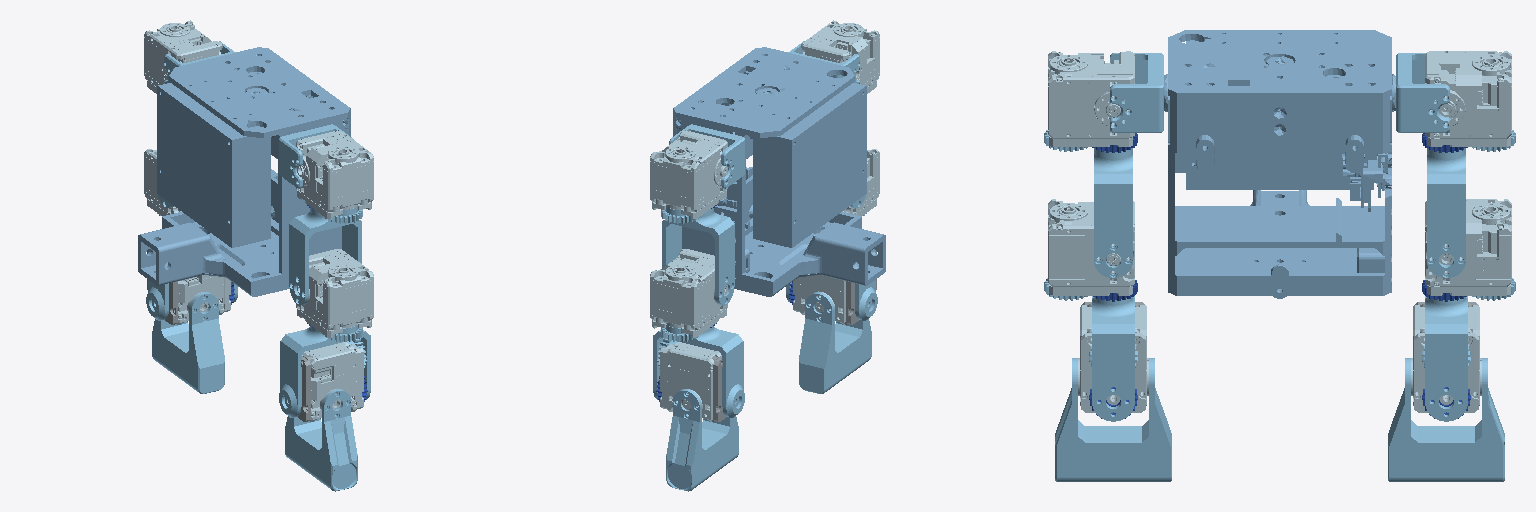
--- Facts derived from the render (not from the file) ---
Views: 3 orthographic renders of the robot side by side, from view 1: azimuth 30°, elevation 25°; view 2: azimuth 150°, elevation 25°; view 3: azimuth 270°, elevation 25°.
Model toddlerbot_arms with 29 links and 28 joints (20 revolute, 8 fixed), rooted at torso, posed all joints at 0.
Links seen in each view (by area): view 1: torso, 2xl430_gears_4, 2xl430_gears_5, hand, hand_2, 2xl430_gears_6, 2xl430_gears, sho_yaw_link_2, elb_yaw_link_2, 2xl430_gears_3, sho_pitch_link_2, 2xl430_gears_2 (+2 smaller); view 2: torso, 2xl430_gears, hand_2, 2xl430_gears_2, hand, 2xl430_gears_3, 2xl430_gears_4, sho_yaw_link, elb_yaw_link, 2xl430_gears_6, sho_pitch_link, 2xl430_gears_5 (+2 smaller); view 3: torso, hand, hand_2, 2xl430_gears, 2xl430_gears_4, 2xl430_gears_2, 2xl430_gears_5, elb_yaw_link, elb_yaw_link_2, sho_yaw_link, sho_yaw_link_2, sho_pitch_link_2 (+3 smaller).
Link boxes in pixels (left/top/right/bottom): torso: left=138, top=47, right=350, bottom=296; 2xl430_gears_4: left=296, top=130, right=373, bottom=219; 2xl430_gears_5: left=296, top=249, right=373, bottom=337; hand: left=152, top=292, right=224, bottom=393; hand_2: left=285, top=389, right=357, bottom=491; 2xl430_gears_6: left=302, top=342, right=363, bottom=421; 2xl430_gears: left=144, top=20, right=222, bottom=93; sho_yaw_link_2: left=289, top=208, right=361, bottom=305; elb_yaw_link_2: left=279, top=326, right=370, bottom=417; 2xl430_gears_3: left=177, top=275, right=230, bottom=324; sho_pitch_link_2: left=279, top=124, right=353, bottom=188; 2xl430_gears_2: left=144, top=149, right=181, bottom=215; torso: left=673, top=47, right=885, bottom=296; 2xl430_gears: left=650, top=130, right=727, bottom=219; hand_2: left=799, top=292, right=871, bottom=393; 2xl430_gears_2: left=650, top=249, right=727, bottom=337; hand: left=666, top=389, right=738, bottom=491; 2xl430_gears_3: left=660, top=342, right=721, bottom=421; 2xl430_gears_4: left=801, top=20, right=879, bottom=93; sho_yaw_link: left=662, top=208, right=734, bottom=305; elb_yaw_link: left=653, top=326, right=744, bottom=417; 2xl430_gears_6: left=793, top=275, right=846, bottom=324; sho_pitch_link: left=669, top=124, right=744, bottom=188; 2xl430_gears_5: left=842, top=149, right=879, bottom=215; torso: left=1164, top=30, right=1395, bottom=298; hand: left=1388, top=358, right=1504, bottom=481; hand_2: left=1055, top=358, right=1171, bottom=481; 2xl430_gears: left=1425, top=51, right=1511, bottom=146; 2xl430_gears_4: left=1048, top=51, right=1134, bottom=146; 2xl430_gears_2: left=1425, top=199, right=1511, bottom=295; 2xl430_gears_5: left=1048, top=199, right=1134, bottom=295; elb_yaw_link: left=1425, top=296, right=1467, bottom=421; elb_yaw_link_2: left=1092, top=296, right=1134, bottom=421; sho_yaw_link: left=1427, top=148, right=1465, bottom=277; sho_yaw_link_2: left=1094, top=148, right=1132, bottom=277; sho_pitch_link_2: left=1110, top=53, right=1163, bottom=132.
Size in the robot's own frame: 0.131 by 0.2519 by 0.2472 metres.
29 mesh visuals loaded from 29 distinct referenced files (29 binary STL).

URDF robot description (toddlerbot_arms):
<robot name="toddlerbot_arms">
  <mujoco>
    <compiler strippath="false" balanceinertia="true" discardvisual="false" />
  </mujoco>
  <link name="torso">
    <visual>
      <origin xyz="0 0 0" rpy="0 -0 0" />
      <geometry>
        <mesh filename="../assemblies/toddlerbot_arms/meshes/torso_visual.stl" />
      </geometry>
      <material name="torso_material">
        <color rgba="0.57568355636757850835 0.73346695530923944339 0.85632171014496005768 1.0" />
      </material>
    </visual>
    <inertial>
      <origin xyz="-0.009112547361055770706 0.003604904945319456315 0.074699753823106354589" rpy="0 0 0" />
      <mass value="0.60023307803583569875" />
      <inertia ixx="0.0016765069535889785303" ixy="-3.7938097719290492563e-05" ixz="-8.3104173875696863154e-05" iyy="0.0013166750851799557606" iyz="5.6366295515428055016e-05" izz="0.0012679724848085589892" />
    </inertial>
  </link>

  <joint name="left_sho_pitch" type="revolute">
    <origin xyz="-0.0030000000000002949654 0.062000000000001082023 0.10423651076281742478" rpy="-1.5707963267949081043 -4.0958527081001641839e-14 3.5234047634505718213e-14" />
    <parent link="torso" />
    <child link="sho_pitch_link" />
    <axis xyz="0 0 1" />
    <limit effort="1" velocity="20" lower="-3.141592653589793116" upper="1.570796326794896558" />
    <joint_properties friction="0.0" />
  </joint>

  <joint name="right_sho_pitch" type="revolute">
    <origin xyz="-0.0029999999999986998872 -0.06200000000000097794 0.10423651076281731376" rpy="-1.5707963267948885644 3.4812325502379109658e-14 -3.1415926535897562566" />
    <parent link="torso" />
    <child link="sho_pitch_link_2" />
    <axis xyz="0 0 1" />
    <limit effort="1" velocity="20" lower="-1.570796326794896558" upper="3.141592653589793116" />
    <joint_properties friction="0.0" />
  </joint>


  <link name="sho_pitch_link">
    <visual>
      <origin xyz="0 0 0" rpy="0 -0 0" />
      <geometry>
        <mesh filename="../assemblies/left_arm_hand/meshes/left_sho_pitch_link_visual.stl" />
      </geometry>
      <material name="sho_pitch_link_material">
        <color rgba="0.61568627450980395466 0.81176470588235294379 0.92941176470588238168 1.0" />
      </material>
    </visual>
    <inertial>
      <origin xyz="5.8254247652798875819e-11 -5.1264642561121521395e-05 0.0082440788127094901533" rpy="0 0 0" />
      <mass value="0.0086000000000000000056" />
      <inertia ixx="1.2272887040545791873e-06" ixy="-2.1429944210231087856e-14" ixz="-8.584719860658140756e-15" iyy="2.9107306060364611617e-06" iyz="7.4623841398183299076e-09" izz="3.0803135950773487693e-06" />
    </inertial>
  </link>

  <link name="2xl430_gears">
    <visual>
      <origin xyz="0 0 0" rpy="0 -0 0" />
      <geometry>
        <mesh filename="../assemblies/left_arm_hand/meshes/left_2xl430_gears_visual.stl" />
      </geometry>
      <material name="2xl430_gears_material">
        <color rgba="0.7560598568794409946 0.85804695962693022793 0.91320266199377464478 1.0" />
      </material>
    </visual>
    <inertial>
      <origin xyz="-0.011579403981036554341 -0.0024225766141400158216 -0.018551095523803531884" rpy="0 0 0" />
      <mass value="0.11800003674524907338" />
      <inertia ixx="2.7482298083236092012e-05" ixy="9.2729623432982117887e-07" ixz="-2.2634512003762348769e-08" iyy="3.2770742486672784378e-05" iyz="-6.5708346020130146558e-07" izz="3.5767957544054292845e-05" />
    </inertial>
  </link>

  <link name="spur_1m_24t_drive">
    <visual>
      <origin xyz="0 0 0" rpy="0 -0 0" />
      <geometry>
        <mesh filename="../assemblies/left_arm_hand/meshes/left_spur_1m_24t_drive_visual.stl" />
      </geometry>
      <material name="spur_1m_24t_drive_material">
        <color rgba="0.61568627450980406568 0.81176470588235294379 0.92941176470588238168 1.0" />
      </material>
    </visual>
    <inertial>
      <origin xyz="-7.7588747702773419228e-15 -1.2113919729783031184e-16 0.0047949116178401460231" rpy="0 0 0" />
      <mass value="0.0032000000000000001533" />
      <inertia ixx="1.4019331346159887702e-07" ixy="1.6002410021513630837e-15" ixz="-8.0106568502533340392e-38" iyy="1.4019331260388786185e-07" iyz="3.5707617447061325799e-38" izz="2.3838919844264060647e-07" />
    </inertial>
  </link>

  <joint name="left_sho_yaw_drive" type="revolute">
    <origin xyz="-0.024000000716141278723 -0.019000000152448490859 -0.0190000001524472939" rpy="1.570796326794886566 -1.7772407460995643501e-15 2.9721983312145830671e-14" />
    <parent link="2xl430_gears" />
    <child link="spur_1m_24t_drive" />
    <axis xyz="0 0 1" />
    <limit effort="1" velocity="20" lower="-1.570796326794896558" upper="1.570796326794896558" />
    <joint_properties friction="0.0" />
  </joint>

  <link name="spur_1m_24t_driven">
    <visual>
      <origin xyz="0 0 0" rpy="0 -0 0" />
      <geometry>
        <mesh filename="../assemblies/left_arm_hand/meshes/left_spur_1m_24t_driven_visual.stl" />
      </geometry>
      <material name="spur_1m_24t_driven_material">
        <color rgba="0.23137254901960788156 0.38039215686274507888 0.7058823529411765163 1.0" />
      </material>
    </visual>
    <inertial>
      <origin xyz="2.3289816703110464291e-18 -5.7987576959439556938e-15 -0.00096866348640038332785" rpy="0 0 0" />
      <mass value="0.0027000000000000001429" />
      <inertia ixx="1.2026541119643502094e-07" ixy="-4.0474500803410873683e-47" ixz="-1.0726060653955529023e-38" iyy="1.2026541119643483565e-07" iyz="5.980474480612833222e-38" izz="2.2827257365099366486e-07" />
    </inertial>
  </link>

  <link name="sho_yaw_link">
    <visual>
      <origin xyz="0 0 0" rpy="0 -0 0" />
      <geometry>
        <mesh filename="../assemblies/left_arm_hand/meshes/left_sho_yaw_link_visual.stl" />
      </geometry>
      <material name="sho_yaw_link_material">
        <color rgba="0.61568627450980395466 0.81176470588235294379 0.92941176470588238168 1.0" />
      </material>
    </visual>
    <inertial>
      <origin xyz="-1.1573942515719324801e-18 3.9965734479645065973e-18 -0.024214576156328410095" rpy="0 0 0" />
      <mass value="0.014500000000000019817" />
      <inertia ixx="9.0490855102915009419e-06" ixy="3.5997729401550392327e-13" ixz="8.4928747802388991438e-37" iyy="5.6767199180624735964e-06" iyz="1.6087043138114355428e-36" izz="4.4590603637468159332e-06" />
    </inertial>
  </link>

  <link name="2xl430_gears_2">
    <visual>
      <origin xyz="0 0 0" rpy="0 -0 0" />
      <geometry>
        <mesh filename="../assemblies/left_arm_hand/meshes/left_2xl430_gears_2_visual.stl" />
      </geometry>
      <material name="2xl430_gears_2_material">
        <color rgba="0.7560598568794409946 0.85804695962693022793 0.91320266199377464478 1.0" />
      </material>
    </visual>
    <inertial>
      <origin xyz="-0.01157940398103590382 -0.0024225766141403085562 -0.018551095523804767007" rpy="0 0 0" />
      <mass value="0.11800003674524907338" />
      <inertia ixx="2.7482298083236647666e-05" ixy="9.2729623433076170308e-07" ixz="-2.263451200393656955e-08" iyy="3.2770742486673184177e-05" iyz="-6.5708346020168125398e-07" izz="3.5767957544054909485e-05" />
    </inertial>
  </link>

  <link name="spur_1m_24t_drive_2">
    <visual>
      <origin xyz="0 0 0" rpy="0 -0 0" />
      <geometry>
        <mesh filename="../assemblies/left_arm_hand/meshes/left_spur_1m_24t_drive_2_visual.stl" />
      </geometry>
      <material name="spur_1m_24t_drive_2_material">
        <color rgba="0.61568627450980406568 0.81176470588235294379 0.92941176470588238168 1.0" />
      </material>
    </visual>
    <inertial>
      <origin xyz="-7.7519358763734346945e-15 -1.2113919729783050906e-16 0.0047949116178401382168" rpy="0 0 0" />
      <mass value="0.0032000000000000001533" />
      <inertia ixx="1.4019331346159887702e-07" ixy="1.6002410054600855339e-15" ixz="2.601989679508350391e-37" iyy="1.4019331260388786185e-07" iyz="-1.1857416576551867588e-36" izz="2.3838919844264060647e-07" />
    </inertial>
  </link>

  <joint name="left_elbow_yaw_drive" type="revolute">
    <origin xyz="-0.024000000716141011575 -0.019000000152448556778 -0.019000000152448452695" rpy="1.5707963267949249797 5.3833632274240703492e-15 -6.2781152873576405876e-14" />
    <parent link="2xl430_gears_2" />
    <child link="spur_1m_24t_drive_2" />
    <axis xyz="0 0 1" />
    <limit effort="1" velocity="20" lower="-1.570796326794896558" upper="1.570796326794896558" />
    <joint_properties friction="0.0" />
  </joint>

  <link name="spur_1m_24t_driven_2">
    <visual>
      <origin xyz="0 0 0" rpy="0 -0 0" />
      <geometry>
        <mesh filename="../assemblies/left_arm_hand/meshes/left_spur_1m_24t_driven_2_visual.stl" />
      </geometry>
      <material name="spur_1m_24t_driven_2_material">
        <color rgba="0.23137254901960788156 0.38039215686274507888 0.7058823529411765163 1.0" />
      </material>
    </visual>
    <inertial>
      <origin xyz="2.3289816703110237031e-18 -5.7989934404527921162e-15 -0.00096866348640039037516" rpy="0 0 0" />
      <mass value="0.0027000000000000001429" />
      <inertia ixx="1.2026541119643502094e-07" ixy="0" ixz="-3.9131793608196566436e-37" iyy="1.2026541119643483565e-07" iyz="0" izz="2.2827257365099366486e-07" />
    </inertial>
  </link>

  <link name="elb_yaw_link">
    <visual>
      <origin xyz="0 0 0" rpy="0 -0 0" />
      <geometry>
        <mesh filename="../assemblies/left_arm_hand/meshes/left_elb_yaw_link_visual.stl" />
      </geometry>
      <material name="elb_yaw_link_material">
        <color rgba="0.61568627450980395466 0.81176470588235294379 0.92941176470588227065 1.0" />
      </material>
    </visual>
    <inertial>
      <origin xyz="5.2870889172778520186e-08 0.0019873558182742466494 -0.02336566119982871545" rpy="0 0 0" />
      <mass value="0.017500000000000001665" />
      <inertia ixx="1.4097804991252558057e-05" ixy="1.690080968406779376e-12" ixz="-1.118467366217378058e-11" iyy="6.6367696417680302023e-06" iyz="1.0579908722588331512e-06" izz="8.9601142768980663591e-06" />
    </inertial>
  </link>

  <link name="spur_1m_24t_driven_3">
    <visual>
      <origin xyz="0 0 0" rpy="0 -0 0" />
      <geometry>
        <mesh filename="../assemblies/left_arm_hand/meshes/left_spur_1m_24t_driven_3_visual.stl" />
      </geometry>
      <material name="spur_1m_24t_driven_3_material">
        <color rgba="0.23137254901960788156 0.38039215686274507888 0.7058823529411765163 1.0" />
      </material>
    </visual>
    <inertial>
      <origin xyz="-2.5426593945317773481e-17 -5.8024628874047457304e-15 -0.0025686634864003805856" rpy="0 0 0" />
      <mass value="0.0027000000000000001429" />
      <inertia ixx="1.2026541119643502094e-07" ixy="7.589814491455755124e-37" ixz="1.0368687130951098114e-36" iyy="1.2026541119643483565e-07" iyz="7.7514145192038011191e-67" izz="2.2827257365099366486e-07" />
    </inertial>
  </link>

  <link name="2xl430_gears_3">
    <visual>
      <origin xyz="0 0 0" rpy="0 -0 0" />
      <geometry>
        <mesh filename="../assemblies/left_arm_hand/meshes/left_2xl430_gears_3_visual.stl" />
      </geometry>
      <material name="2xl430_gears_3_material">
        <color rgba="0.7560598568794409946 0.85804695962693022793 0.91320266199377464478 1.0" />
      </material>
    </visual>
    <inertial>
      <origin xyz="0.00044890447620182772313 0.011579403622954374115 -0.024577423538310189111" rpy="0 0 0" />
      <mass value="0.11800003674524907338" />
      <inertia ixx="3.5767957544054136991e-05" ixy="2.2634512003809435198e-08" ixz="6.5708346020219646177e-07" iyy="2.7482298083236969538e-05" iyz="9.2729623433153832641e-07" izz="3.277074248667180182e-05" />
    </inertial>
  </link>

  <link name="spur_1m_24t_drive_3">
    <visual>
      <origin xyz="0 0 0" rpy="0 -0 0" />
      <geometry>
        <mesh filename="../assemblies/left_arm_hand/meshes/left_spur_1m_24t_drive_3_visual.stl" />
      </geometry>
      <material name="spur_1m_24t_drive_3_material">
        <color rgba="0.61568627450980406568 0.81176470588235294379 0.92941176470588238168 1.0" />
      </material>
    </visual>
    <inertial>
      <origin xyz="-7.779691451989063608e-15 -1.2139113751310926949e-16 0.0047949116178401460231" rpy="0 0 0" />
      <mass value="0.0032000000000000001533" />
      <inertia ixx="1.4019331346159887702e-07" ixy="1.6002410021513630837e-15" ixz="1.353024793676005615e-36" iyy="1.4019331260388786185e-07" iyz="-6.353552390351152457e-37" izz="2.3838919844264060647e-07" />
    </inertial>
  </link>

  <joint name="left_wrist_roll_drive" type="revolute">
    <origin xyz="-1.5244091752797395145e-10 0.024000000358059436767 -0.0080000000000068592632" rpy="1.9871762375367660116e-15 -2.337019466836035928e-14 -1.5707963267949176522" />
    <parent link="2xl430_gears_3" />
    <child link="spur_1m_24t_drive_3" />
    <axis xyz="0 0 1" />
    <limit effort="1" velocity="20" lower="-1.570796326794896558" upper="1.570796326794896558" />
    <joint_properties friction="0.0" />
  </joint>

  <link name="hand">
    <visual>
      <origin xyz="0 0 0" rpy="0 -0 0" />
      <geometry>
        <mesh filename="../assemblies/left_arm_hand/meshes/left_hand_visual.stl" />
      </geometry>
      <material name="hand_material">
        <color rgba="0.61568627450980395466 0.81176470588235294379 0.92941176470588238168 1.0" />
      </material>
    </visual>
    <inertial>
      <origin xyz="-4.3038382212365917433e-08 -0.049723778585231935556 -0.017933572005390339271" rpy="0 0 0" />
      <mass value="0.017000000000001441042" />
      <inertia ixx="9.492141461772624154e-06" ixy="-1.5549215897336582142e-11" ixz="-1.0809694196523374989e-11" iyy="4.0745028295199771232e-06" iyz="2.4719408559837110004e-07" izz="6.6623859523002763733e-06" />
    </inertial>
  </link>

  <joint name="left_wrist_pitch" type="revolute">
    <origin xyz="0.019000000000005953099 -3.5808089826616651408e-10 -0.027000000152448959401" rpy="3.3651291228739927188e-14 1.5707963267946487562 0" />
    <parent link="2xl430_gears_3" />
    <child link="hand" />
    <axis xyz="0 0 1" />
    <limit effort="1" velocity="20" lower="-1.570796326794896558" upper="1.570796326794896558" />
    <joint_properties friction="0.0" />
  </joint>

  <link name="wrist_bearing_plate">
    <visual>
      <origin xyz="0 0 0" rpy="0 -0 0" />
      <geometry>
        <mesh filename="../assemblies/left_arm_hand/meshes/left_wrist_bearing_plate_visual.stl" />
      </geometry>
      <material name="wrist_bearing_plate_material">
        <color rgba="0.64496316278892629192 0.69011804996940528945 0.71706771073555886087 1.0" />
      </material>
    </visual>
    <inertial>
      <origin xyz="-0.0075896393545961393645 -0.015499999999999982542 -0.001838611004571836377" rpy="0 0 0" />
      <mass value="0.0049000367468305539714" />
      <inertia ixx="4.9747313520140109893e-07" ixy="3.1440518711942401996e-23" ixz="1.8097509420524730079e-08" iyy="7.1295025627582343196e-07" iyz="7.639371504633119733e-24" izz="1.192629795229190602e-06" />
    </inertial>
  </link>

  <joint name="left_wrist_pitch_fixed" type="fixed">
    <origin xyz="0.015500000000005269979 -1.7125190154843039636e-14 -0.04500000000000015099" rpy="-4.057865155005087888e-14 -2.9093394360302217044e-13 -1.5707963267949061059" />
    <parent link="2xl430_gears_3" />
    <child link="wrist_bearing_plate" />
    <axis xyz="0 0 1" />
    <limit effort="1" velocity="20" />
    <joint_properties friction="0.0" />
  </joint>

  <joint name="left_wrist_roll_driven" type="revolute">
    <origin xyz="-2.7755575615628913511e-17 0 -0.0015999999999999937883" rpy="2.1632341616309662631e-16 -1.4384639448392080473e-27 -1.57079632679489678" />
    <parent link="spur_1m_24t_driven_3" />
    <child link="2xl430_gears_3" />
    <axis xyz="0 0 1" />
    <limit effort="1" velocity="20" lower="-1.570796326794896558" upper="1.570796326794896558" />
    <joint_properties friction="0.0" />
  </joint>

  <joint name="left_wrist_roll_fixed" type="fixed">
    <origin xyz="-3.4694469519536141888e-18 -0.025300000000000003042 -0.051999999999999976796" rpy="1.570796326794896558 -1.570796326794896558 0" />
    <parent link="elb_yaw_link" />
    <child link="spur_1m_24t_driven_3" />
    <axis xyz="0 0 1" />
    <limit effort="1" velocity="20" />
    <joint_properties friction="0.0" />
  </joint>

  <joint name="left_elbow_yaw_fixed" type="fixed">
    <origin xyz="7.8886090522101180541e-31 3.4694469519536141888e-18 0.0015999999999999625633" rpy="3.141592653589793116 6.123233994422830684e-17 -1.57079632679489678" />
    <parent link="spur_1m_24t_driven_2" />
    <child link="elb_yaw_link" />
    <axis xyz="0 0 1" />
    <limit effort="1" velocity="20" />
    <joint_properties friction="0.0" />
  </joint>

  <joint name="left_elbow_yaw_driven" type="revolute">
    <origin xyz="-3.5806929990500613314e-10 -0.027000000152451131274 -0.019000000000003351014" rpy="1.5707963267949591746 1.5707963267948683583 0" />
    <parent link="2xl430_gears_2" />
    <child link="spur_1m_24t_driven_2" />
    <axis xyz="0 0 1" />
    <limit effort="1" velocity="20" lower="-1.570796326794896558" upper="1.570796326794896558" />
    <joint_properties friction="0.0" />
  </joint>

  <joint name="left_elbow_roll" type="revolute">
    <origin xyz="2.185751579730776939e-16 -0.018999999999999329925 -0.058999999999999733213" rpy="1.570796326794896558 -1.3443939455351824662e-14 1.2212453270787430779e-15" />
    <parent link="sho_yaw_link" />
    <child link="2xl430_gears_2" />
    <axis xyz="0 0 1" />
    <limit effort="1" velocity="20" lower="-1.570796326794896558" upper="1.570796326794896558" />
    <joint_properties friction="0.0" />
  </joint>

  <joint name="left_sho_yaw_fixed" type="fixed">
    <origin xyz="1.7347234759768070944e-17 -1.6375789611241112762e-17 0.0015999999999999972577" rpy="-3.1415926535897926719 2.775557561593911827e-16 4.4408920984097454411e-16" />
    <parent link="spur_1m_24t_driven" />
    <child link="sho_yaw_link" />
    <axis xyz="0 0 1" />
    <limit effort="1" velocity="20" />
    <joint_properties friction="0.0" />
  </joint>

  <joint name="left_sho_yaw_driven" type="revolute">
    <origin xyz="-3.5807098258677783065e-10 -0.027000000152450111257 -0.019000000000003021416" rpy="1.5707963267949009989 2.5840015203544507292e-14 -4.9507333169721578628e-15" />
    <parent link="2xl430_gears" />
    <child link="spur_1m_24t_driven" />
    <axis xyz="0 0 1" />
    <limit effort="1" velocity="20" lower="-1.570796326794896558" upper="1.570796326794896558" />
    <joint_properties friction="0.0" />
  </joint>

  <joint name="left_sho_roll" type="revolute">
    <origin xyz="-0.018999999999999947486 0.0010000000000000076102 0.027000000000000003164" rpy="-3.141592653589793116 1.570796326794896558 0" />
    <parent link="sho_pitch_link" />
    <child link="2xl430_gears" />
    <axis xyz="0 0 1" />
    <limit effort="1" velocity="20" lower="-1.570796326794896558" upper="0" />
    <joint_properties friction="0.0" />
  </joint>


  <link name="sho_pitch_link_2">
    <visual>
      <origin xyz="0 0 0" rpy="0 -0 0" />
      <geometry>
        <mesh filename="../assemblies/right_arm_hand/meshes/right_sho_pitch_link_visual.stl" />
      </geometry>
      <material name="sho_pitch_link_material">
        <color rgba="0.61568627450980395466 0.81176470588235294379 0.92941176470588238168 1.0" />
      </material>
    </visual>
    <inertial>
      <origin xyz="5.8254247652798875819e-11 -5.1264642561121521395e-05 0.0082440788127094901533" rpy="0 0 0" />
      <mass value="0.0086000000000000000056" />
      <inertia ixx="1.2272887040545791873e-06" ixy="-2.1429944210231087856e-14" ixz="-8.584719860658140756e-15" iyy="2.9107306060364611617e-06" iyz="7.4623841398183299076e-09" izz="3.0803135950773487693e-06" />
    </inertial>
  </link>

  <link name="2xl430_gears_4">
    <visual>
      <origin xyz="0 0 0" rpy="0 -0 0" />
      <geometry>
        <mesh filename="../assemblies/right_arm_hand/meshes/right_2xl430_gears_visual.stl" />
      </geometry>
      <material name="2xl430_gears_material">
        <color rgba="0.7560598568794409946 0.85804695962693022793 0.91320266199377464478 1.0" />
      </material>
    </visual>
    <inertial>
      <origin xyz="-0.011579403981034819618 -0.002422576614140262586 -0.018551095523804385368" rpy="0 0 0" />
      <mass value="0.11800003674524907338" />
      <inertia ixx="2.7482298083236305464e-05" ixy="9.2729623432947590706e-07" ixz="-2.2634512004125047616e-08" iyy="3.2770742486672947008e-05" iyz="-6.5708346020133704096e-07" izz="3.5767957544054523238e-05" />
    </inertial>
  </link>

  <link name="spur_1m_24t_drive_4">
    <visual>
      <origin xyz="0 0 0" rpy="0 -0 0" />
      <geometry>
        <mesh filename="../assemblies/right_arm_hand/meshes/right_spur_1m_24t_drive_visual.stl" />
      </geometry>
      <material name="spur_1m_24t_drive_material">
        <color rgba="0.61568627450980406568 0.81176470588235294379 0.92941176470588238168 1.0" />
      </material>
    </visual>
    <inertial>
      <origin xyz="-7.7449969824695274661e-15 -1.2113919729783050906e-16 0.0047949116178401442884" rpy="0 0 0" />
      <mass value="0.0032000000000000001533" />
      <inertia ixx="1.4019331346159882408e-07" ixy="1.6002410042112558093e-15" ixz="-3.3725439700307390285e-36" iyy="1.4019331260388791479e-07" iyz="3.7162875711380697641e-37" izz="2.3838919844264071235e-07" />
    </inertial>
  </link>

  <joint name="right_sho_yaw_drive" type="revolute">
    <origin xyz="-0.024000000716138513573 -0.019000000152446919199 -0.019000000152449438018" rpy="1.5707963267949425212 -7.4825707768639476445e-14 5.2729872485629252068e-14" />
    <parent link="2xl430_gears_4" />
    <child link="spur_1m_24t_drive_4" />
    <axis xyz="0 0 1" />
    <limit effort="1" velocity="20" lower="-1.570796326794896558" upper="1.570796326794896558" />
    <joint_properties friction="0.0" />
  </joint>

  <link name="spur_1m_24t_driven_4">
    <visual>
      <origin xyz="0 0 0" rpy="0 -0 0" />
      <geometry>
        <mesh filename="../assemblies/right_arm_hand/meshes/right_spur_1m_24t_driven_visual.stl" />
      </geometry>
      <material name="spur_1m_24t_driven_material">
        <color rgba="0.23137254901960788156 0.38039215686274507888 0.7058823529411765163 1.0" />
      </material>
    </visual>
    <inertial>
      <origin xyz="2.3289816703110487402e-18 -5.7987576959439572715e-15 -0.00096866348640038332785" rpy="0 0 0" />
      <mass value="0.0027000000000000001429" />
      <inertia ixx="1.2026541119643502094e-07" ixy="-5.5663580889415808082e-37" ixz="6.6068929034903528962e-38" iyy="1.2026541119643483565e-07" iyz="-8.7912927549812511121e-37" izz="2.2827257365099366486e-07" />
    </inertial>
  </link>

  <link name="sho_yaw_link_2">
    <visual>
      <origin xyz="0 0 0" rpy="0 -0 0" />
      <geometry>
        <mesh filename="../assemblies/right_arm_hand/meshes/right_sho_yaw_link_visual.stl" />
      </geometry>
      <material name="sho_yaw_link_material">
        <color rgba="0.61568627450980395466 0.81176470588235294379 0.92941176470588238168 1.0" />
      </material>
    </visual>
    <inertial>
      <origin xyz="-1.1573942515719413393e-18 3.9965734479639950703e-18 -0.024214576156328420503" rpy="0 0 0" />
      <mass value="0.014500000000000019817" />
      <inertia ixx="9.0490855102915009419e-06" ixy="3.5997729401550392327e-13" ixz="7.6329854215857035117e-36" iyy="5.6767199180624735964e-06" iyz="-3.9168248734789212003e-35" izz="4.4590603637468159332e-06" />
    </inertial>
  </link>

  <link name="2xl430_gears_5">
    <visual>
      <origin xyz="0 0 0" rpy="0 -0 0" />
      <geometry>
        <mesh filename="../assemblies/right_arm_hand/meshes/right_2xl430_gears_2_visual.stl" />
      </geometry>
      <material name="2xl430_gears_2_material">
        <color rgba="0.7560598568794409946 0.85804695962693022793 0.91320266199377464478 1.0" />
      </material>
    </visual>
    <inertial>
      <origin xyz="-0.011579403981039061017 -0.0024225766141394624448 -0.01855109552380462129" rpy="0 0 0" />
      <mass value="0.11800003674524907338" />
      <inertia ixx="2.7482298083236664606e-05" ixy="9.272962343288520673e-07" ixz="-2.263451200331673003e-08" iyy="3.2770742486673394241e-05" iyz="-6.5708346020123031481e-07" izz="3.5767957544054679092e-05" />
    </inertial>
  </link>

  <link name="spur_1m_24t_drive_5">
    <visual>
      <origin xyz="0 0 0" rpy="0 -0 0" />
      <geometry>
        <mesh filename="../assemblies/right_arm_hand/meshes/right_spur_1m_24t_drive_2_visual.stl" />
      </geometry>
      <material name="spur_1m_24t_drive_2_material">
        <color rgba="0.61568627450980406568 0.81176470588235294379 0.92941176470588238168 1.0" />
      </material>
    </visual>
    <inertial>
      <origin xyz="-7.7519358763734346945e-15 -1.2113919727198111491e-16 0.0047949116178401382168" rpy="0 0 0" />
      <mass value="0.0032000000000000001533" />
      <inertia ixx="1.4019331346159882408e-07" ixy="1.6002410067372217571e-15" ixz="1.6629977555619572844e-37" iyy="1.4019331260388783538e-07" iyz="-5.9003905059354040123e-36" izz="2.3838919844264060647e-07" />
    </inertial>
  </link>

  <joint name="right_elbow_yaw_drive" type="revolute">
    <origin xyz="-0.024000000716145233892 -0.019000000152448695556 -0.019000000152448716373" rpy="1.5707963267950251218 -1.5597582698688193762e-15 -8.7866473173388565758e-14" />
    <parent link="2xl430_gears_5" />
    <child link="spur_1m_24t_drive_5" />
    <axis xyz="0 0 1" />
    <limit effort="1" velocity="20" lower="-1.570796326794896558" upper="1.570796326794896558" />
    <joint_properties friction="0.0" />
  </joint>

  <link name="spur_1m_24t_driven_5">
    <visual>
      <origin xyz="0 0 0" rpy="0 -0 0" />
      <geometry>
        <mesh filename="../assemblies/right_arm_hand/meshes/right_spur_1m_24t_driven_2_visual.stl" />
      </geometry>
      <material name="spur_1m_24t_driven_2_material">
        <color rgba="0.23137254901960788156 0.38039215686274507888 0.7058823529411765163 1.0" />
      </material>
    </visual>
    <inertial>
      <origin xyz="2.3289816703110487402e-18 -5.7987576959439580604e-15 -0.00096866348640039037516" rpy="0 0 0" />
      <mass value="0.0027000000000000001429" />
      <inertia ixx="1.2026541119643502094e-07" ixy="0" ixz="0" iyy="1.2026541119643483565e-07" iyz="-2.0904260807940459177e-37" izz="2.2827257365099366486e-07" />
    </inertial>
  </link>

  <link name="elb_yaw_link_2">
    <visual>
      <origin xyz="0 0 0" rpy="0 -0 0" />
      <geometry>
        <mesh filename="../assemblies/right_arm_hand/meshes/right_elb_yaw_link_visual.stl" />
      </geometry>
      <material name="elb_yaw_link_material">
        <color rgba="0.61568627450980395466 0.81176470588235294379 0.92941176470588227065 1.0" />
      </material>
    </visual>
    <inertial>
      <origin xyz="5.2870889176247967138e-08 0.0019873558182742466494 -0.023365661199828722389" rpy="0 0 0" />
      <mass value="0.017500000000000001665" />
      <inertia ixx="1.4097804991252558057e-05" ixy="1.690080968406779376e-12" ixz="-1.1184673662173783811e-11" iyy="6.6367696417680302023e-06" iyz="1.057990872258833363e-06" izz="8.9601142768980697473e-06" />
    </inertial>
  </link>

  <link name="spur_1m_24t_driven_6">
    <visual>
      <origin xyz="0 0 0" rpy="0 -0 0" />
      <geometry>
        <mesh filename="../assemblies/right_arm_hand/meshes/right_spur_1m_24t_driven_3_visual.stl" />
      </geometry>
      <material name="spur_1m_24t_driven_3_material">
        <color rgba="0.23137254901960788156 0.38039215686274507888 0.7058823529411765163 1.0" />
      </material>
    </visual>
    <inertial>
      <origin xyz="3.008455728593993028e-17 -5.7989934404527921162e-15 -0.0025686634864003805856" rpy="0 0 0" />
      <mass value="0.0027000000000000001429" />
      <inertia ixx="1.2026541119643502094e-07" ixy="2.4642767301845862177e-37" ixz="-2.4880139536911267997e-37" iyy="1.2026541119643483565e-07" iyz="5.0195324597132952237e-37" izz="2.2827257365099366486e-07" />
    </inertial>
  </link>

  <link name="2xl430_gears_6">
    <visual>
      <origin xyz="0 0 0" rpy="0 -0 0" />
      <geometry>
        <mesh filename="../assemblies/right_arm_hand/meshes/right_2xl430_gears_3_visual.stl" />
      </geometry>
      <material name="2xl430_gears_3_material">
        <color rgba="0.7560598568794409946 0.85804695962693022793 0.91320266199377464478 1.0" />
      </material>
    </visual>
    <inertial>
      <origin xyz="0.00044890447620021529766 0.011579403622967155557 -0.024577423538309637469" rpy="0 0 0" />
      <mass value="0.11800003674524907338" />
      <inertia ixx="3.5767957544056075002e-05" ixy="2.2634512003692829202e-08" ixz="6.5708346020097832251e-07" iyy="2.7482298083237132169e-05" iyz="9.2729623433063327171e-07" izz="3.2770742486673109638e-05" />
    </inertial>
  </link>

  <link name="spur_1m_24t_drive_6">
    <visual>
      <origin xyz="0 0 0" rpy="0 -0 0" />
      <geometry>
        <mesh filename="../assemblies/right_arm_hand/meshes/right_spur_1m_24t_drive_3_visual.stl" />
      </geometry>
      <material name="spur_1m_24t_drive_3_material">
        <color rgba="0.61568627450980406568 0.81176470588235294379 0.92941176470588238168 1.0" />
      </material>
    </visual>
    <inertial>
      <origin xyz="-7.724180300757805781e-15 -1.2139113751310946671e-16 0.0047949116178401460231" rpy="0 0 0" />
      <mass value="0.0032000000000000001533" />
      <inertia ixx="1.4019331346159882408e-07" ixy="1.6002410120492237384e-15" ixz="-1.9540791723013512303e-37" iyy="1.4019331260388786185e-07" iyz="7.8971612067142880027e-37" izz="2.3838919844264060647e-07" />
    </inertial>
  </link>

  <joint name="right_wrist_roll_drive" type="revolute">
    <origin xyz="-1.5244304429895549902e-10 0.024000000358071205131 -0.0080000000000011832479" rpy="-2.7654003188110425226e-15 2.9457521138105151042e-15 -1.5707963267949167641" />
    <parent link="2xl430_gears_6" />
    <child link="spur_1m_24t_drive_6" />
    <axis xyz="0 0 1" />
    <limit effort="1" velocity="20" lower="-1.570796326794896558" upper="1.570796326794896558" />
    <joint_properties friction="0.0" />
  </joint>

  <link name="hand_2">
    <visual>
      <origin xyz="0 0 0" rpy="0 -0 0" />
      <geometry>
        <mesh filename="../assemblies/right_arm_hand/meshes/right_hand_visual.stl" />
      </geometry>
      <material name="hand_material">
        <color rgba="0.61568627450980395466 0.81176470588235294379 0.92941176470588238168 1.0" />
      </material>
    </visual>
    <inertial>
      <origin xyz="-4.3038382212365917433e-08 0.049723778585231921678 -0.020066427994609656316" rpy="0 0 0" />
      <mass value="0.017000000000001441042" />
      <inertia ixx="9.492141461772624154e-06" ixy="1.5549215897336585373e-11" ixz="1.0809694196523376605e-11" iyy="4.0745028295199788173e-06" iyz="2.4719408559837120591e-07" izz="6.6623859523002797615e-06" />
    </inertial>
  </link>

  <joint name="right_wrist_pitch" type="revolute">
    <origin xyz="0.019000000000001918132 -3.5806760334544662783e-10 -0.027000000152449927376" rpy="3.1415926535897029659 -1.5707963267947193664 0" />
    <parent link="2xl430_gears_6" />
    <child link="hand_2" />
    <axis xyz="0 0 1" />
    <limit effort="1" velocity="20" lower="-1.570796326794896558" upper="1.570796326794896558" />
    <joint_properties friction="0.0" />
  </joint>

  <link name="wrist_bearing_plate_2">
    <visual>
      <origin xyz="0 0 0" rpy="0 -0 0" />
      <geometry>
        <mesh filename="../assemblies/right_arm_hand/meshes/right_wrist_bearing_plate_visual.stl" />
      </geometry>
      <material name="wrist_bearing_plate_material">
        <color rgba="0.64496316278892629192 0.69011804996940528945 0.71706771073555886087 1.0" />
      </material>
    </visual>
    <inertial>
      <origin xyz="-0.0075896393545961445687 -0.015499999999999986011 -0.0018386110045718389791" rpy="0 0 0" />
      <mass value="0.0049000367468305539714" />
      <inertia ixx="4.9747313520140131069e-07" ixy="1.0858724720439498592e-22" ixz="1.8097509420524789636e-08" iyy="7.1295025627582205553e-07" iyz="-1.4672026767920951309e-22" izz="1.1926297952291895432e-06" />
    </inertial>
  </link>

  <joint name="right_wrist_pitch_fixed" type="fixed">
    <origin xyz="0.015500000000003956793 4.5519144009631418157e-15 -0.045000000000003870237" rpy="-3.552713678787178252e-15 1.2051470932306258524e-13 -1.570796326794896558" />
    <parent link="2xl430_gears_6" />
    <child link="wrist_bearing_plate_2" />
    <axis xyz="0 0 1" />
    <limit effort="1" velocity="20" />
    <joint_properties friction="0.0" />
  </joint>

  <joint name="right_wrist_roll_driven" type="revolute">
    <origin xyz="2.7755575615628913511e-17 0 -0.0015999999999999972577" rpy="-5.61028737291082927e-15 5.3290705182036772791e-15 1.57079632679489678" />
    <parent link="spur_1m_24t_driven_6" />
    <child link="2xl430_gears_6" />
    <axis xyz="0 0 1" />
    <limit effort="1" velocity="20" lower="-1.570796326794896558" upper="1.570796326794896558" />
    <joint_properties friction="0.0" />
  </joint>

  <joint name="right_wrist_roll_fixed" type="fixed">
    <origin xyz="3.4694469519536141888e-18 -0.025299999999999996103 -0.051999999999999990674" rpy="1.5707963267949205388 1.570796326794896558 0" />
    <parent link="elb_yaw_link_2" />
    <child link="spur_1m_24t_driven_6" />
    <axis xyz="0 0 1" />
    <limit effort="1" velocity="20" />
    <joint_properties friction="0.0" />
  </joint>

  <joint name="right_elbow_yaw_fixed" type="fixed">
    <origin xyz="-3.4694469519536141888e-18 -1.5777218104420236108e-30 0.0015999999999999764411" rpy="-3.1415926535897891192 -8.3149610451184695905e-31 2.7073084493379207714e-30" />
    <parent link="spur_1m_24t_driven_5" />
    <child link="elb_yaw_link_2" />
    <axis xyz="0 0 1" />
    <limit effort="1" velocity="20" />
    <joint_properties friction="0.0" />
  </joint>

  <joint name="right_elbow_yaw_driven" type="revolute">
    <origin xyz="-3.5807111442576200488e-10 -0.027000000152451464341 -0.019000000000003632039" rpy="1.570796326794921427 1.0192981807050532901e-13 -4.32129208184743122e-14" />
    <parent link="2xl430_gears_5" />
    <child link="spur_1m_24t_driven_5" />
    <axis xyz="0 0 1" />
    <limit effort="1" velocity="20" lower="-1.570796326794896558" upper="1.570796326794896558" />
    <joint_properties friction="0.0" />
  </joint>

  <joint name="right_elbow_roll" type="revolute">
    <origin xyz="-2.2898349882893853646e-16 -0.019000000000000173001 -0.058999999999999837297" rpy="1.57079632679489678 -1.1224323958578838097e-14 -5.9062164171655744588e-15" />
    <parent link="sho_yaw_link_2" />
    <child link="2xl430_gears_5" />
    <axis xyz="0 0 1" />
    <limit effort="1" velocity="20" lower="-1.570796326794896558" upper="1.570796326794896558" />
    <joint_properties friction="0.0" />
  </joint>

  <joint name="right_sho_yaw_fixed" type="fixed">
    <origin xyz="3.4694469519536141888e-18 0 0.0016000000000000076661" rpy="-3.1415926535897917837 7.3983136435179850071e-16 1.4710455076273652726e-15" />
    <parent link="spur_1m_24t_driven_4" />
    <child link="sho_yaw_link_2" />
    <axis xyz="0 0 1" />
    <limit effort="1" velocity="20" />
    <joint_properties friction="0.0" />
  </joint>

  <joint name="right_sho_yaw_driven" type="revolute">
    <origin xyz="-3.5806675333094339919e-10 -0.027000000152447987956 -0.019000000000004509809" rpy="1.5707963267949396347 -3.4289578266172945506e-14 -6.6930782579143983011e-15" />
    <parent link="2xl430_gears_4" />
    <child link="spur_1m_24t_driven_4" />
    <axis xyz="0 0 1" />
    <limit effort="1" velocity="20" lower="-1.570796326794896558" upper="1.570796326794896558" />
    <joint_properties friction="0.0" />
  </joint>

  <joint name="right_sho_roll" type="revolute">
    <origin xyz="-0.01899999999999998565 0.0010000000000000112965 0.027000000000000013572" rpy="3.141592653589793116 1.570796326794896558 0" />
    <parent link="sho_pitch_link_2" />
    <child link="2xl430_gears_4" />
    <axis xyz="0 0 1" />
    <limit effort="1" velocity="20" lower="-1.570796326794896558" upper="0" />
    <joint_properties friction="0.0" />
  </joint>


</robot>
